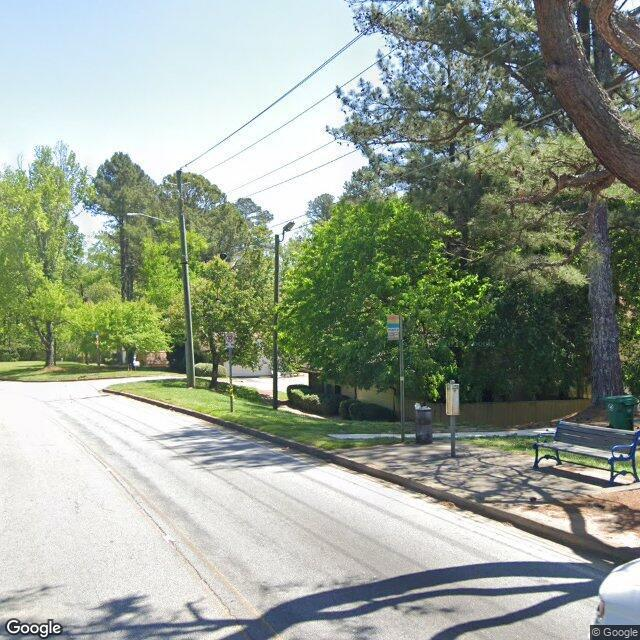seating: (531, 414, 640, 484)
trash_can: (414, 405, 434, 445)
